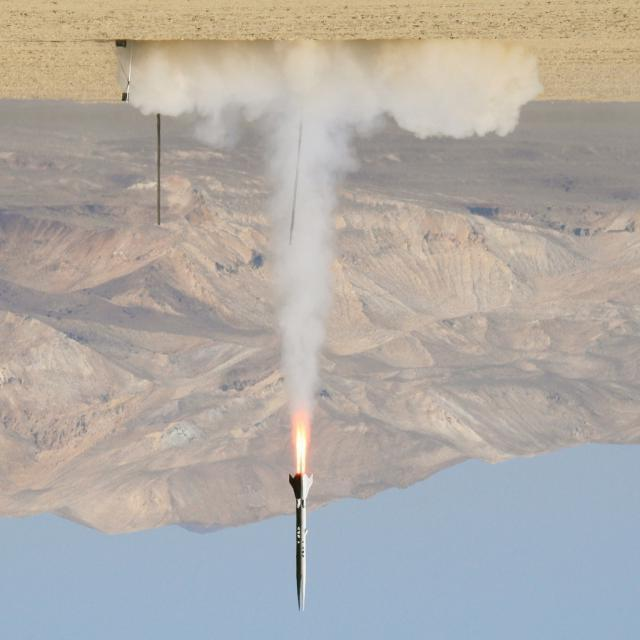missile: (286, 472, 316, 609)
